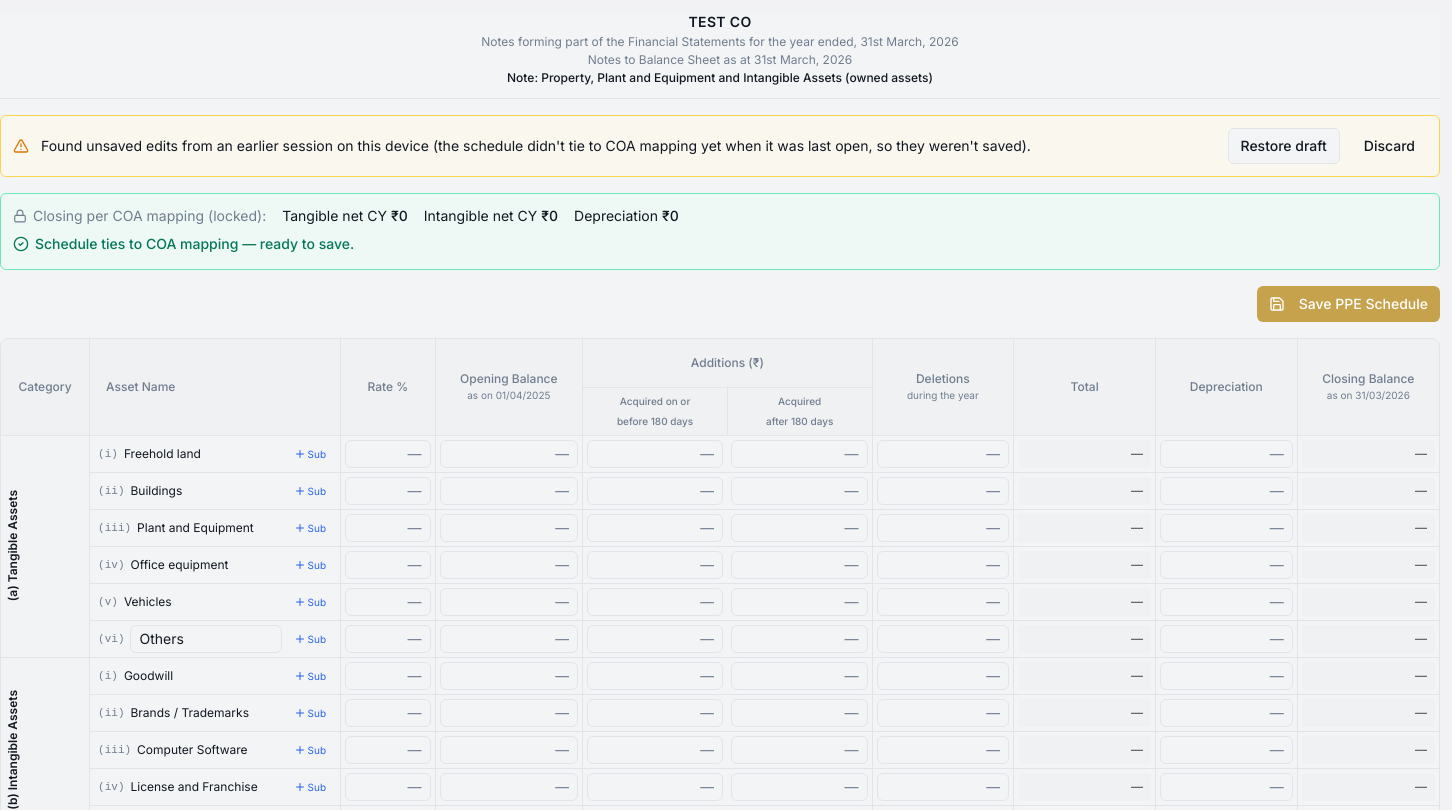
Scenario: NCEPPESchedule — local draft safety net › offers to restore a local draft found on reload that the DB doesn't have
Check: the text "unsaved edits from an earlier session" is shown, box [41, 137, 1031, 154]
Check: the button "Discard" is shown, box [1352, 128, 1427, 164]
What coordinates should you click on to do the following:
click the button "Restore draft"
I would click on:
 (1284, 146)
Its box is [1228, 128, 1340, 164].
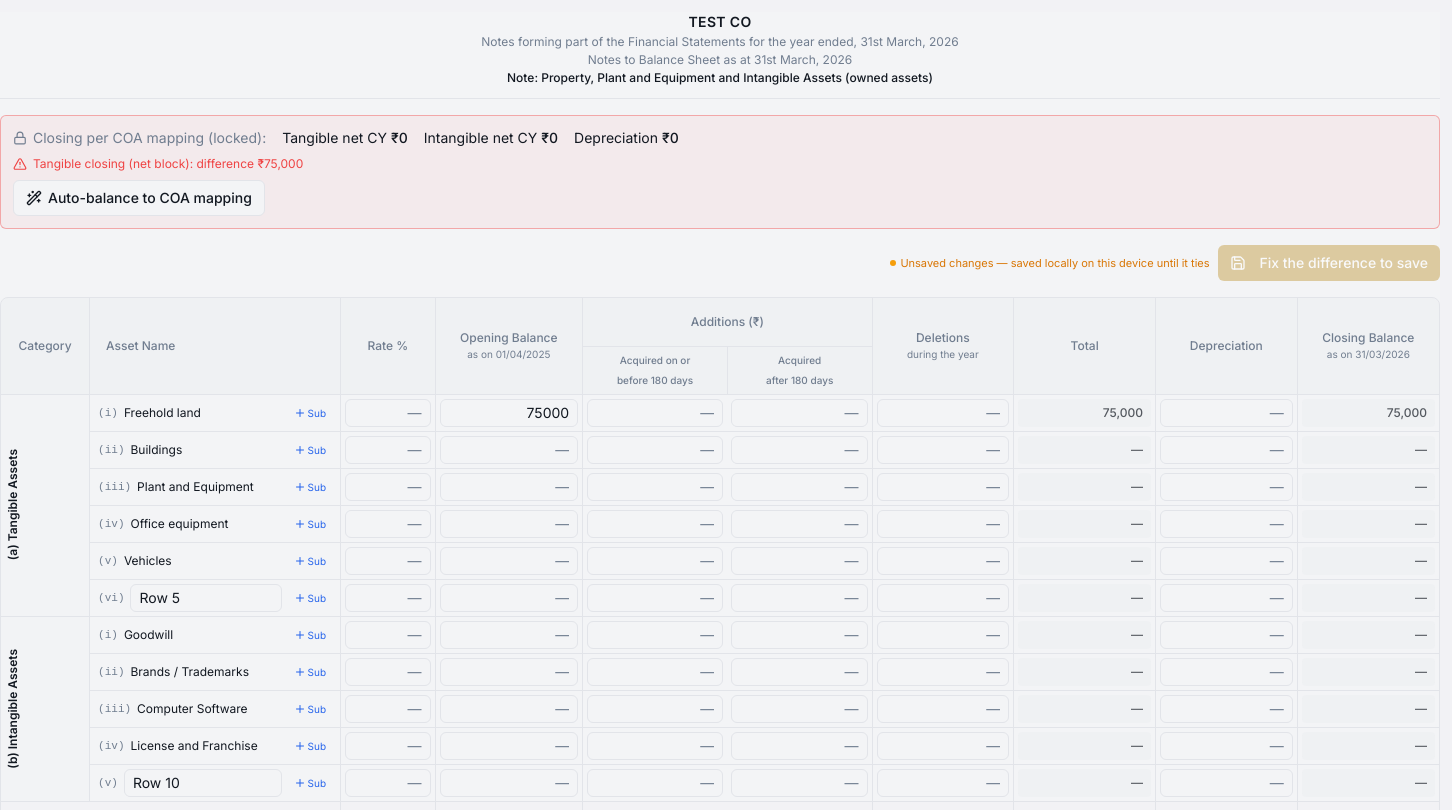
Check: the text "unsaved edits from an earlier session" is gone
